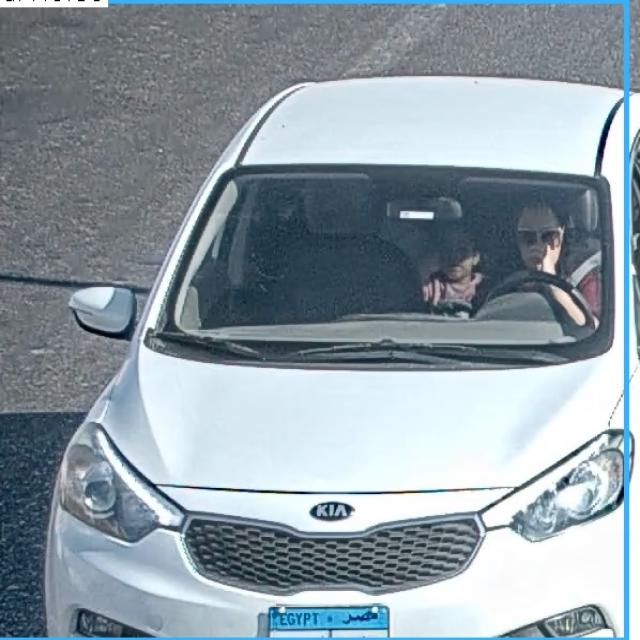windshield: (163, 167, 608, 359)
